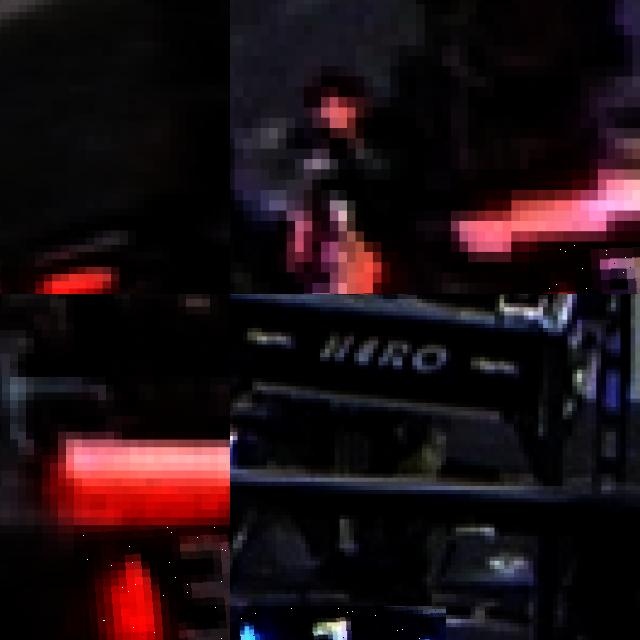B1: (230, 606, 446, 640)
R3: (74, 525, 230, 640), (269, 179, 381, 294), (528, 241, 640, 294)
